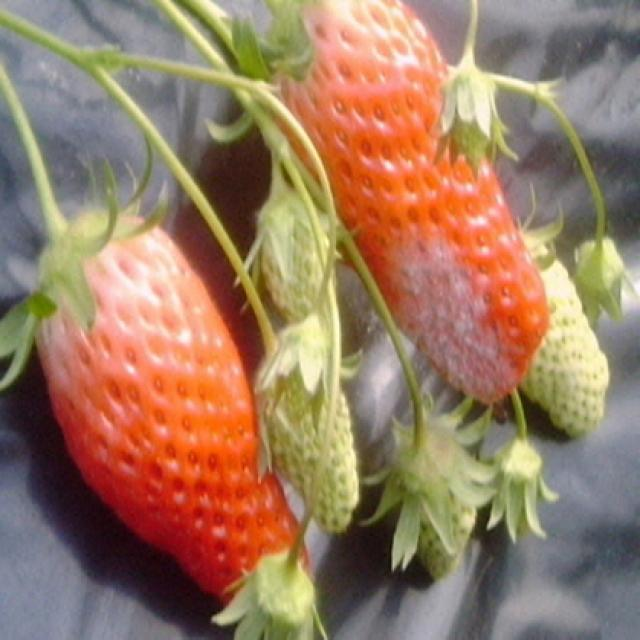Powdery Mildew Fruit: (376, 219, 527, 405)
